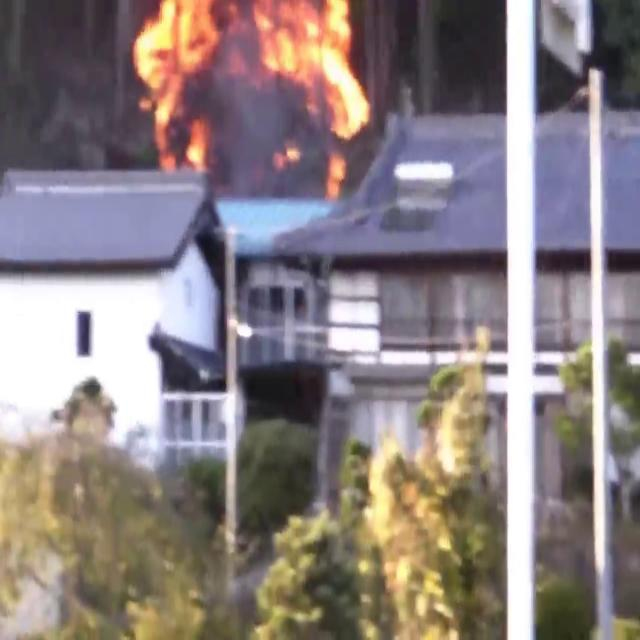Fire: (128, 1, 374, 174)
